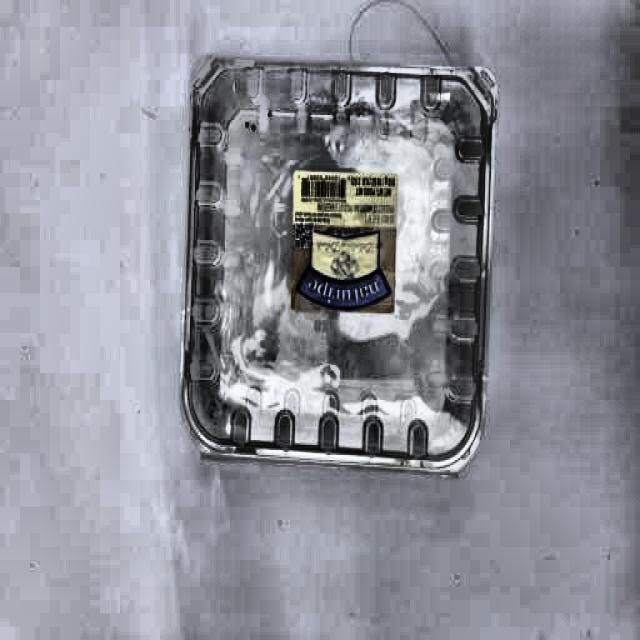plastic: (175, 54, 498, 482)
